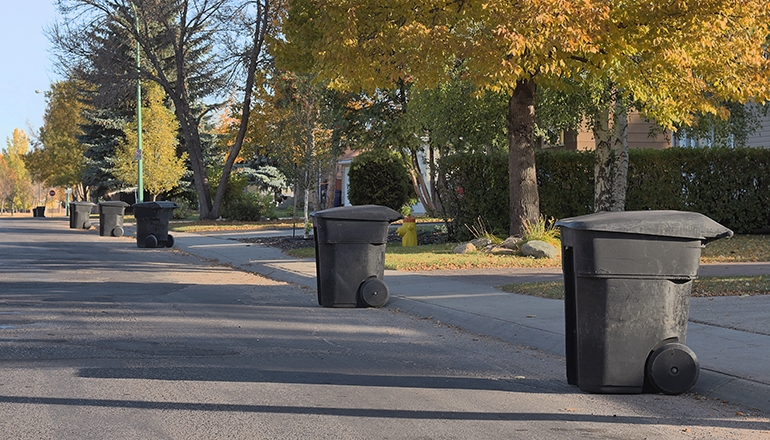TrashBin: (547, 214, 732, 395), (308, 194, 401, 322), (129, 197, 179, 255), (97, 196, 131, 244), (62, 197, 99, 233)
Tree: (392, 1, 572, 253), (163, 1, 259, 221)
